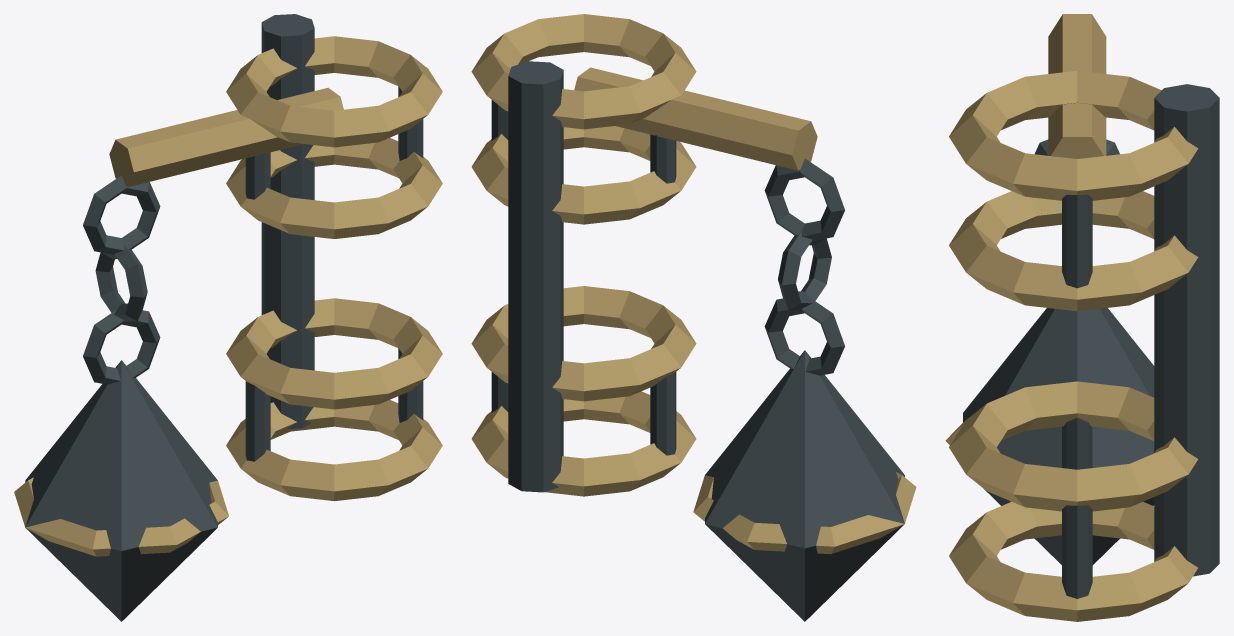
Rendered from Equip_Counterweight.fbx.
3 views of the same model, side by side, from view 1: azimuth 30°, elevation 25°; view 2: azimuth 150°, elevation 25°; view 3: azimuth 270°, elevation 25° (orthographic). The views are drawn at different scales.
Parts seen in each view (by area): view 1: Equip_Counterweight; view 2: Equip_Counterweight; view 3: Equip_Counterweight.
Part boxes in pixels (x1,y1,x2,y2): Equip_Counterweight: (14, 14, 442, 621); Equip_Counterweight: (471, 14, 916, 621); Equip_Counterweight: (945, 14, 1219, 621).
Size of the model in its own units: 0.322 by 0.39 by 0.16.
